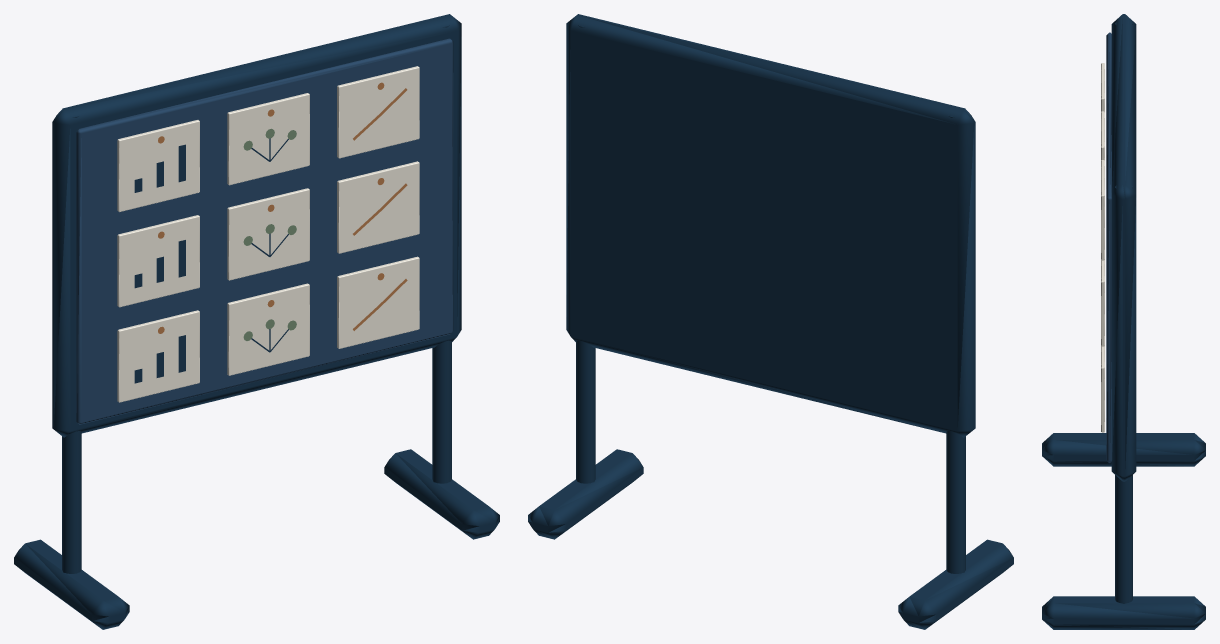
File: noticeboard.fbx
3 views of the same model, side by side, from view 1: azimuth 30°, elevation 25°; view 2: azimuth 150°, elevation 25°; view 3: azimuth 270°, elevation 25° (orthographic). The views are drawn at different scales.
Visible parts, largest first — view 1: noticeboard; view 2: noticeboard; view 3: noticeboard.
Part boxes in pixels (x1=…): noticeboard: x1=14, y1=14, x2=499, y2=629; noticeboard: x1=528, y1=14, x2=1013, y2=629; noticeboard: x1=1042, y1=14, x2=1205, y2=629.
Size of the model in its own units: 130 by 150 by 50.
